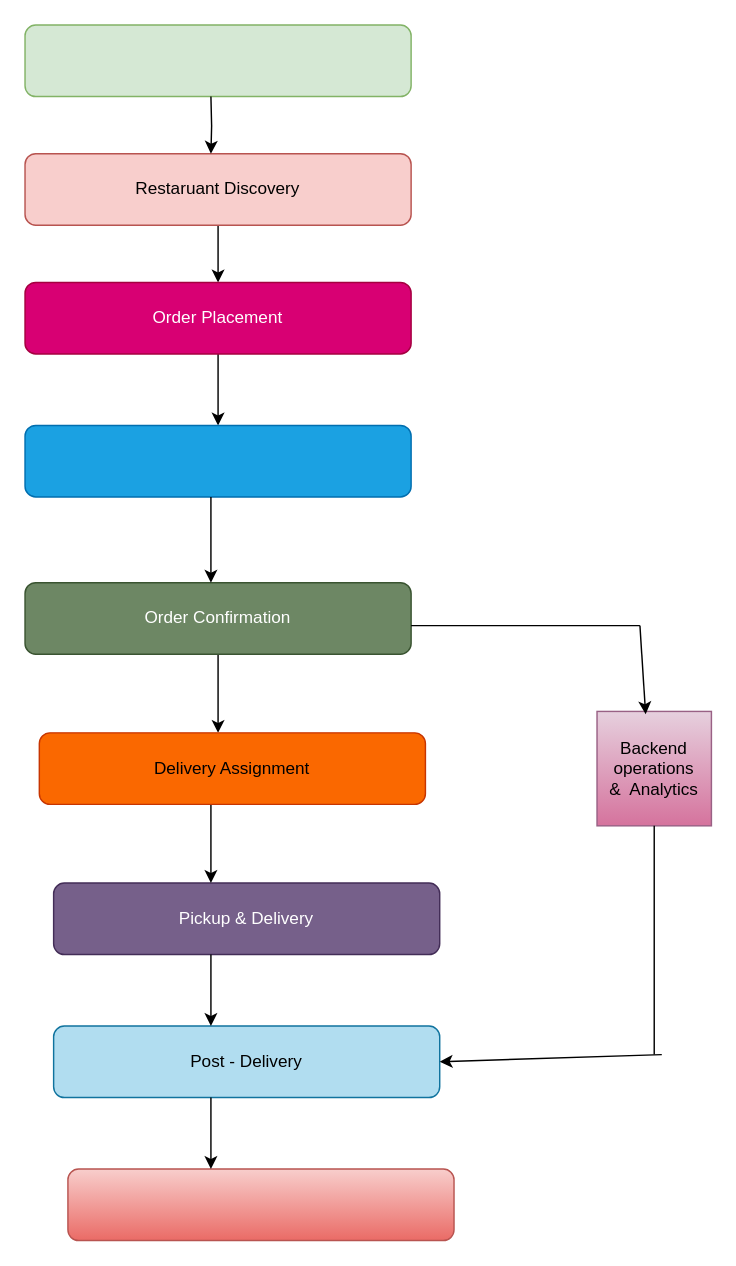
Some shapes in this 736 by 1266 pixel diagram are drawn without their labels. Each missing label, with the box of its shape:
Feedback loop and updates: (66, 1168, 454, 1241)
Pyment Process: (24, 424, 411, 497)
User onboarding: (24, 24, 411, 97)
